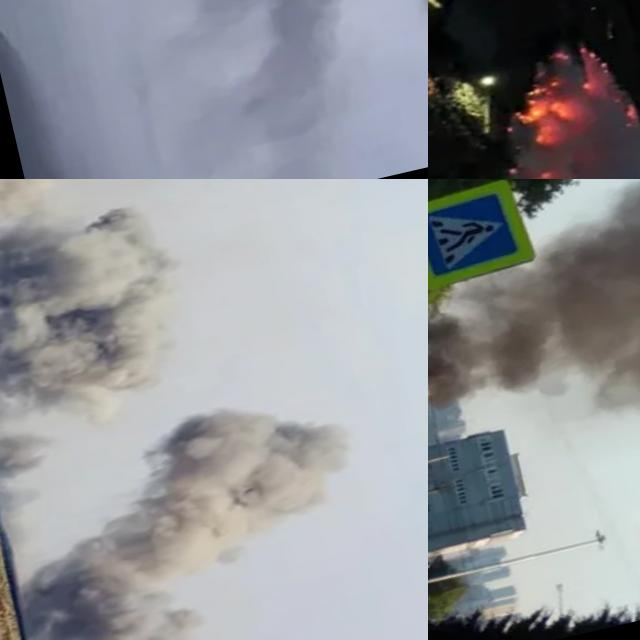smoke: (0, 385, 387, 640), (428, 179, 640, 520), (0, 213, 206, 481), (428, 16, 640, 179), (125, 0, 428, 83), (0, 179, 116, 267)
